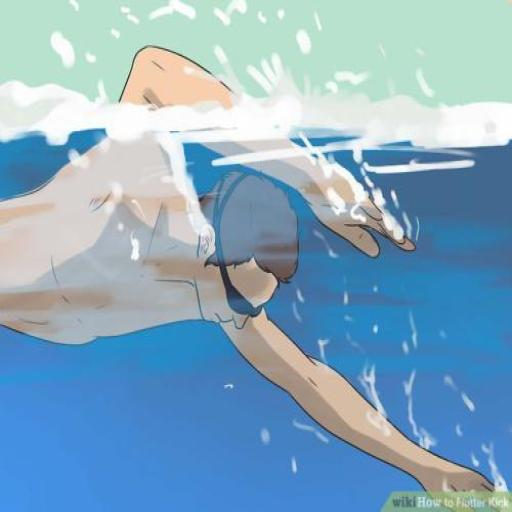swimming: (0, 42, 502, 508)
